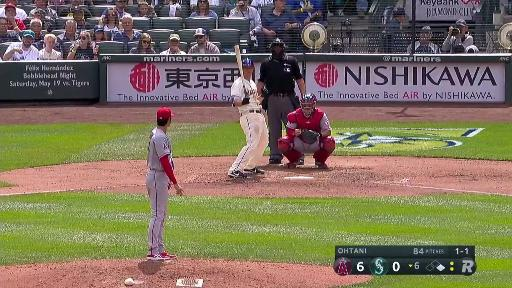pitcher: (146, 109, 187, 260)
